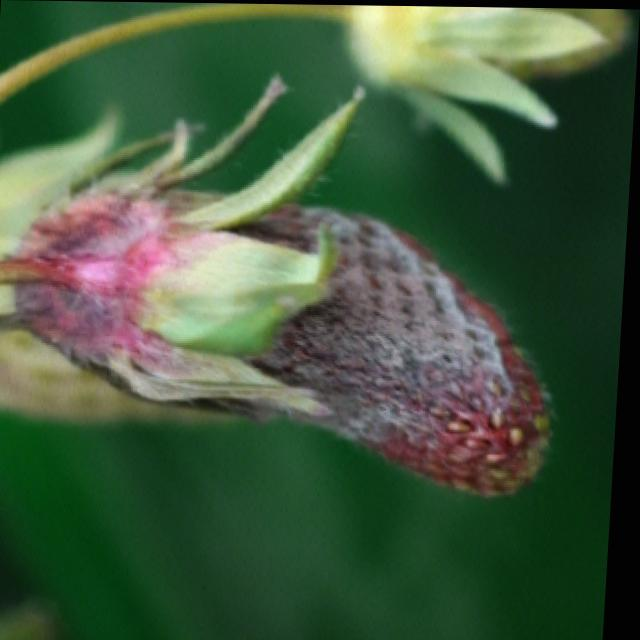Gray Mold: (0, 167, 557, 497)
